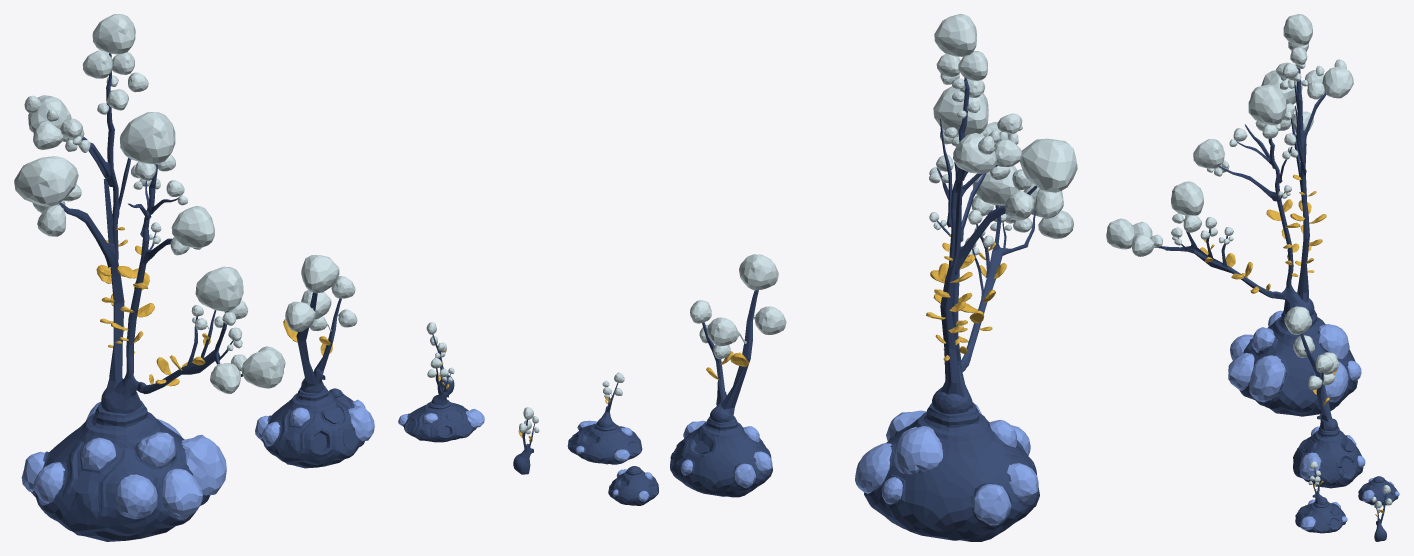
Rendered from Arbuste_biomeair_Bhodondyndron_texture.fbx.
3 renders of one model, left to right at view 1: azimuth 30°, elevation 25°; view 2: azimuth 150°, elevation 25°; view 3: azimuth 270°, elevation 25°, orthographic. The views are drawn at different scales.
Parts seen in each view (by area): view 1: RacineBulbe, Icosphere.010, Sphere.019, RacineBulbe.001, Sphere.016, Sphere.000, RacineBulbe.002; view 2: RacineBulbe, Icosphere.010, RacineBulbe.001, Sphere.016, Sphere.000, Sphere.019, RacineBulbe.002, RacineBulbe.003, RacineBulbe.004; view 3: RacineBulbe, Icosphere.010, Sphere.019, Sphere.016, RacineBulbe.001, Sphere.000, RacineBulbe.002, RacineBulbe.003, RacineBulbe.004.
Part boxes in pixels (x1,y1,x2,y2): RacineBulbe: (21,374,226,541); Icosphere.010: (14,14,148,394); Sphere.019: (111,112,214,379); RacineBulbe.001: (255,368,374,468); Sphere.016: (137,266,285,393); Sphere.000: (283,255,357,391); RacineBulbe.002: (398,388,484,442); RacineBulbe: (855,365,1039,541); Icosphere.010: (926,14,1077,397); RacineBulbe.001: (670,392,772,497); Sphere.016: (958,165,1073,372); Sphere.000: (690,254,786,422); Sphere.019: (929,86,1010,368); RacineBulbe.002: (567,406,642,464); RacineBulbe.003: (608,466,658,505); RacineBulbe.004: (513,407,539,474); RacineBulbe: (1228,286,1361,416); Icosphere.010: (1261,14,1353,302); Sphere.019: (1193,84,1300,288); Sphere.016: (1106,181,1284,299); RacineBulbe.001: (1293,412,1365,488); Sphere.000: (1284,306,1339,421); RacineBulbe.002: (1295,490,1347,533); RacineBulbe.003: (1358,476,1399,505); RacineBulbe.004: (1372,485,1392,541).
Bounding box in the file's own units: 760 × 755 × 516.
